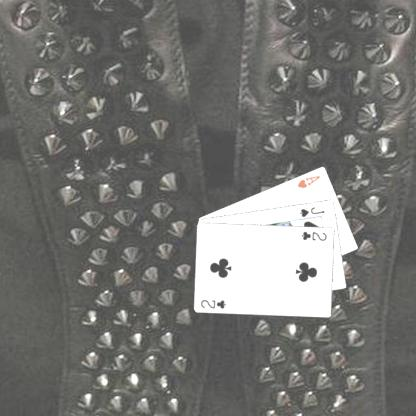2C: (198, 296, 228, 310), (299, 229, 328, 242)
AH: (294, 172, 322, 189)
JS: (297, 204, 326, 218)
